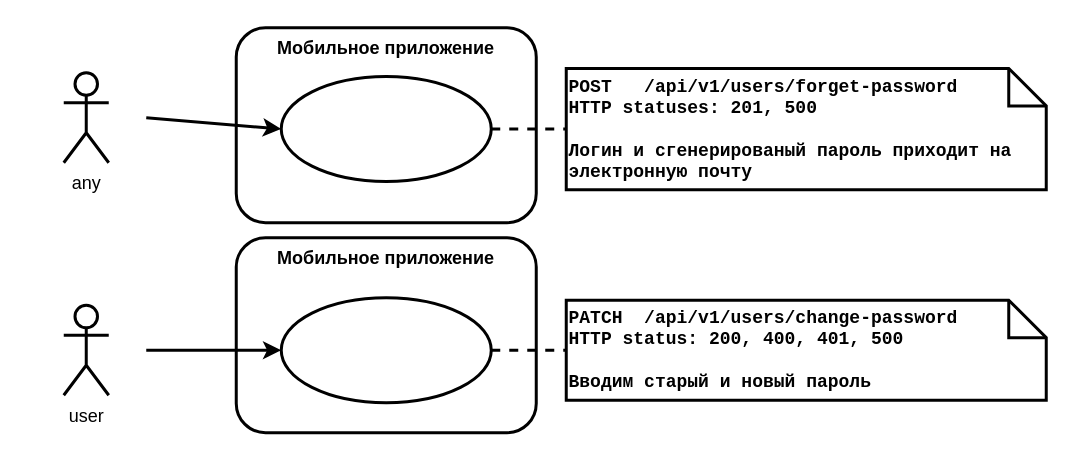
Image size: 1073x465. Some labels were removed from this diagram. The shapes that lost their labels are listed below. From the top down, each one's centre as x and y in pixels, then its label:
the point at 385,128: Забыли пароль
the point at 385,350: Смена пароля
